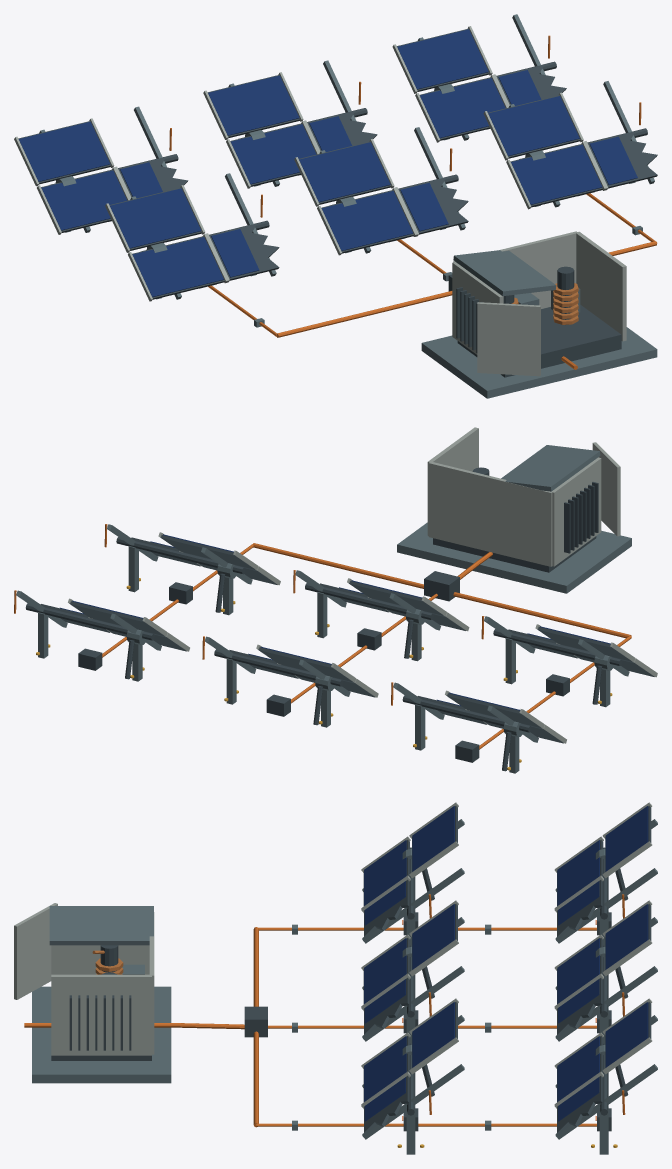
File: solar_power_complex_d2.glb
3 renders of one model, top to bottom at view 1: azimuth 30°, elevation 25°; view 2: azimuth 150°, elevation 25°; view 3: azimuth 270°, elevation 25°, orthographic. The views are drawn at different scales.
Visible parts, largest first — view 1: SOLAR_GAME_MESH, SOLAR_GAME_MESH_003, SOLAR_GAME_MESH_001, SOLAR_GAME_MESH_002, SOLAR_GAME_MESH_004, SOLAR_GAME_MESH_006, SOLAR_GAME_MESH_005; view 2: SOLAR_GAME_MESH, SOLAR_GAME_MESH_002, SOLAR_GAME_MESH_005, SOLAR_GAME_MESH_001, SOLAR_GAME_MESH_004, SOLAR_GAME_MESH_003, SOLAR_GAME_MESH_006; view 3: SOLAR_GAME_MESH, SOLAR_GAME_MESH_004, SOLAR_GAME_MESH_006, SOLAR_GAME_MESH_005, SOLAR_GAME_MESH_003, SOLAR_GAME_MESH_001, SOLAR_GAME_MESH_002.
Part boxes in pixels (x1,y1,x2,y2): SOLAR_GAME_MESH: (50, 61, 657, 398); SOLAR_GAME_MESH_003: (483, 81, 657, 209); SOLAR_GAME_MESH_001: (105, 173, 279, 301); SOLAR_GAME_MESH_002: (294, 127, 468, 255); SOLAR_GAME_MESH_004: (14, 106, 188, 234); SOLAR_GAME_MESH_006: (392, 14, 566, 142); SOLAR_GAME_MESH_005: (203, 60, 377, 188); SOLAR_GAME_MESH: (25, 427, 631, 773); SOLAR_GAME_MESH_002: (293, 570, 469, 631); SOLAR_GAME_MESH_005: (202, 636, 378, 697); SOLAR_GAME_MESH_001: (481, 616, 657, 677); SOLAR_GAME_MESH_004: (391, 682, 566, 743); SOLAR_GAME_MESH_003: (104, 524, 280, 585); SOLAR_GAME_MESH_006: (14, 590, 189, 651); SOLAR_GAME_MESH: (14, 847, 628, 1154); SOLAR_GAME_MESH_004: (554, 802, 657, 943); SOLAR_GAME_MESH_006: (554, 998, 657, 1139); SOLAR_GAME_MESH_005: (554, 900, 657, 1041); SOLAR_GAME_MESH_003: (361, 998, 464, 1139); SOLAR_GAME_MESH_001: (361, 802, 464, 943); SOLAR_GAME_MESH_002: (361, 900, 464, 1041).
Size of the model in its own units: 16.57 by 2.89 by 16.66.
